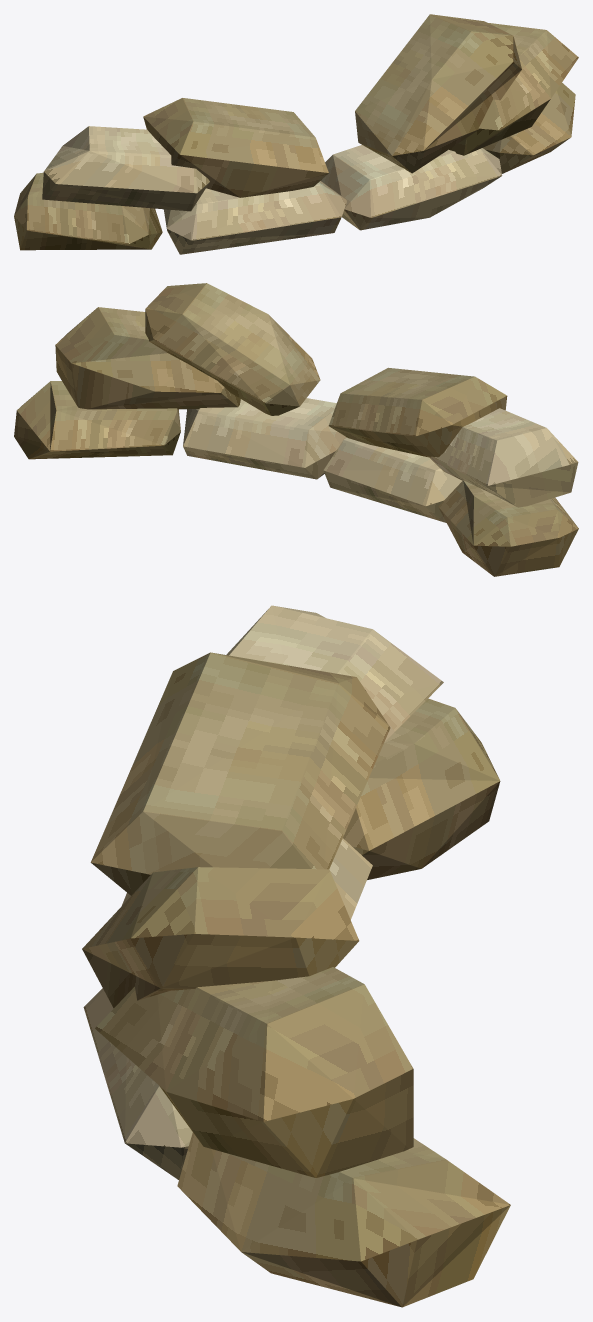
The model's file is C3SMTSNDB_H.obj.
3 renders of one model, top to bottom at view 1: azimuth 30°, elevation 25°; view 2: azimuth 150°, elevation 25°; view 3: azimuth 270°, elevation 25°, orthographic. The views are drawn at different scales.
Visible parts, largest first — view 1: Node 5, Node 0, Node 4, Node 3; view 2: Node 0, Node 5, Node 4, Node 3; view 3: Node 0, Node 3, Node 5, Node 4.
Part boxes in pixels (x1,y1,x2,y2): Node 5: (14, 126, 346, 254); Node 0: (321, 23, 578, 230); Node 4: (355, 14, 521, 173); Node 3: (143, 98, 328, 197); Node 0: (14, 307, 346, 479); Node 5: (323, 408, 578, 576); Node 4: (145, 283, 320, 415); Node 3: (328, 367, 507, 457); Node 0: (83, 967, 510, 1307); Node 3: (90, 652, 390, 895); Node 5: (122, 605, 500, 919); Node 4: (82, 867, 359, 1008).
Size of the model in its own units: 3.38 by 0.9183 by 1.14.
6 materials, 6 textured.
